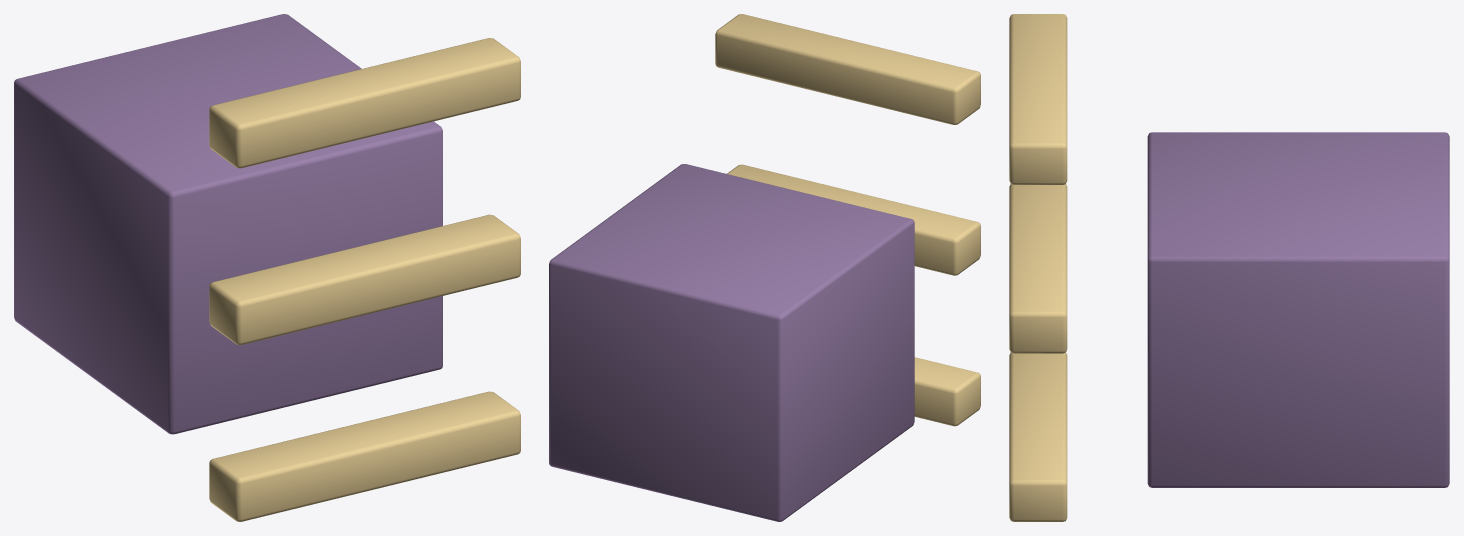
File: opera_crate.glb
3 views of the same model, side by side, from view 1: azimuth 30°, elevation 25°; view 2: azimuth 150°, elevation 25°; view 3: azimuth 270°, elevation 25° (orthographic). The views are drawn at different scales.
Visible parts, largest first — view 1: crate_body, slat.001, slat.002, slat; view 2: crate_body, slat.002, slat.001, slat; view 3: crate_body, slat.002, slat, slat.001.
Part boxes in pixels (x1,y1,x2,y2): crate_body: (14,14,442,434); slat.001: (209,214,520,345); slat.002: (209,38,520,168); slat: (209,391,520,521); crate_body: (549,164,914,521); slat.002: (715,14,980,124); slat.001: (727,164,980,275); slat: (914,357,980,426); crate_body: (1147,132,1449,487); slat.002: (1009,14,1067,184); slat: (1009,352,1067,521); slat.001: (1009,184,1067,353).
Bounding box in the file's own units: 1.35 × 1.8 × 1.89.
